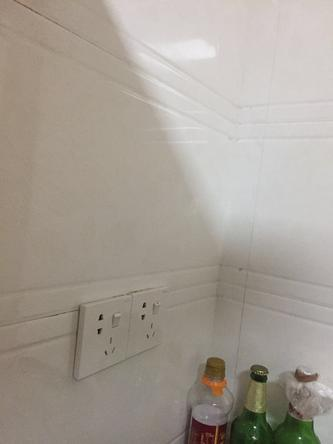switch: (112, 307, 125, 327), (154, 296, 166, 310)
